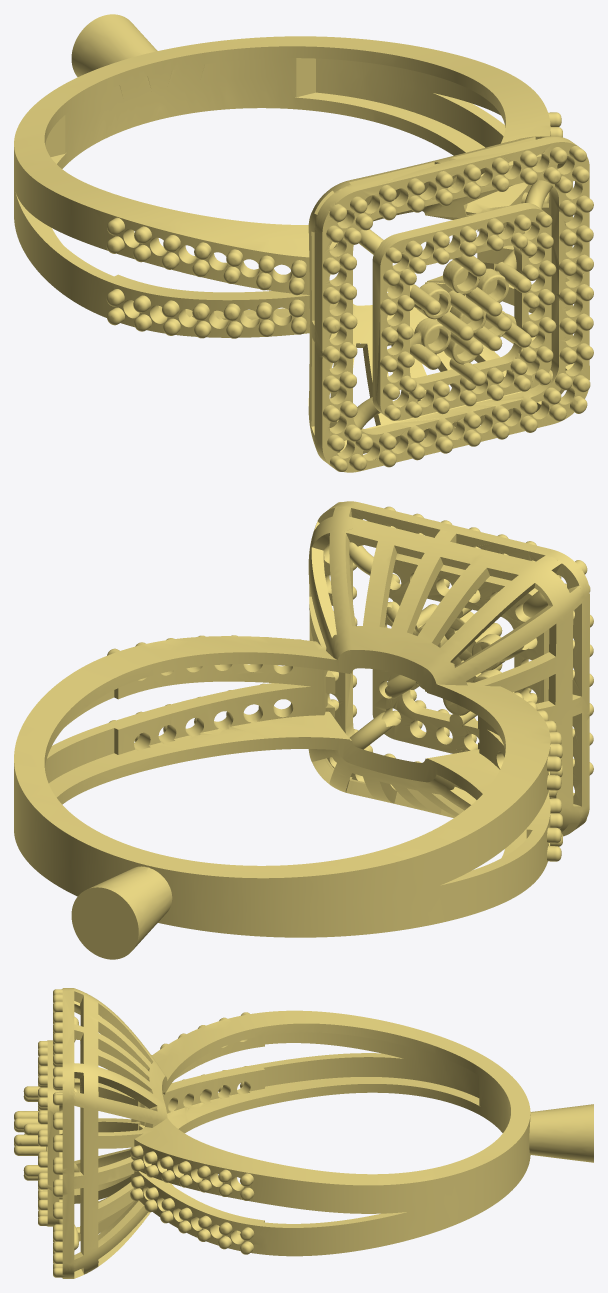
The model's file is mum_4.glb.
The picture shows the model from 3 angles, top to bottom: view 1: azimuth 30°, elevation 25°; view 2: azimuth 150°, elevation 25°; view 3: azimuth 270°, elevation 25°; orthographic projection. The views are drawn at different scales.
Visible parts, largest first — view 1: Renderer Node; view 2: Renderer Node; view 3: Renderer Node.
Boxes of the visible parts, x1,y1,x2,y2 form: Renderer Node: [14, 14, 593, 472]; Renderer Node: [14, 501, 593, 959]; Renderer Node: [14, 988, 593, 1278].
Bounding box in the file's own units: 20.92 × 12.11 × 29.92.
